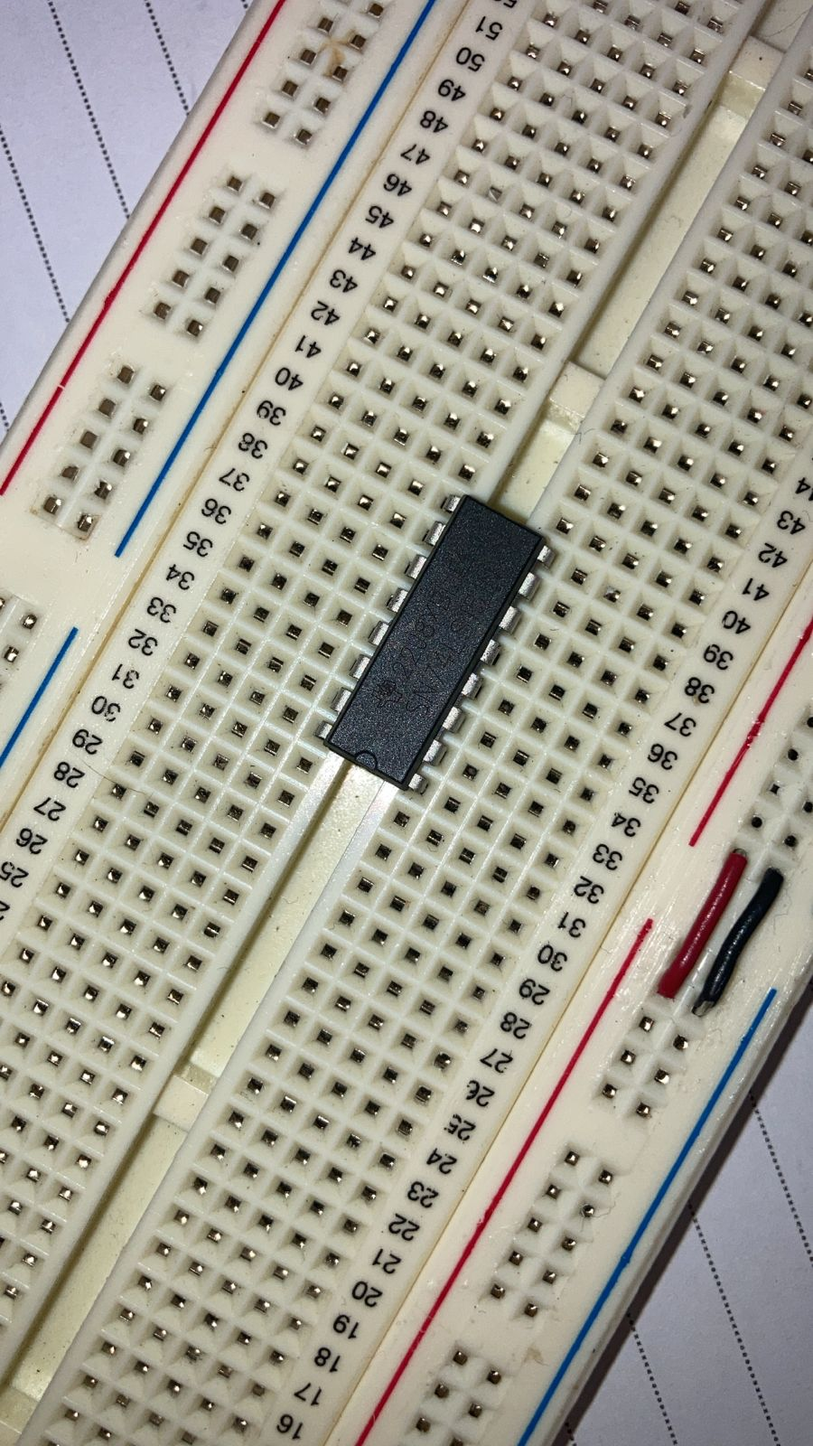IC: (305, 484, 570, 805)
notch: (351, 747, 383, 775)
